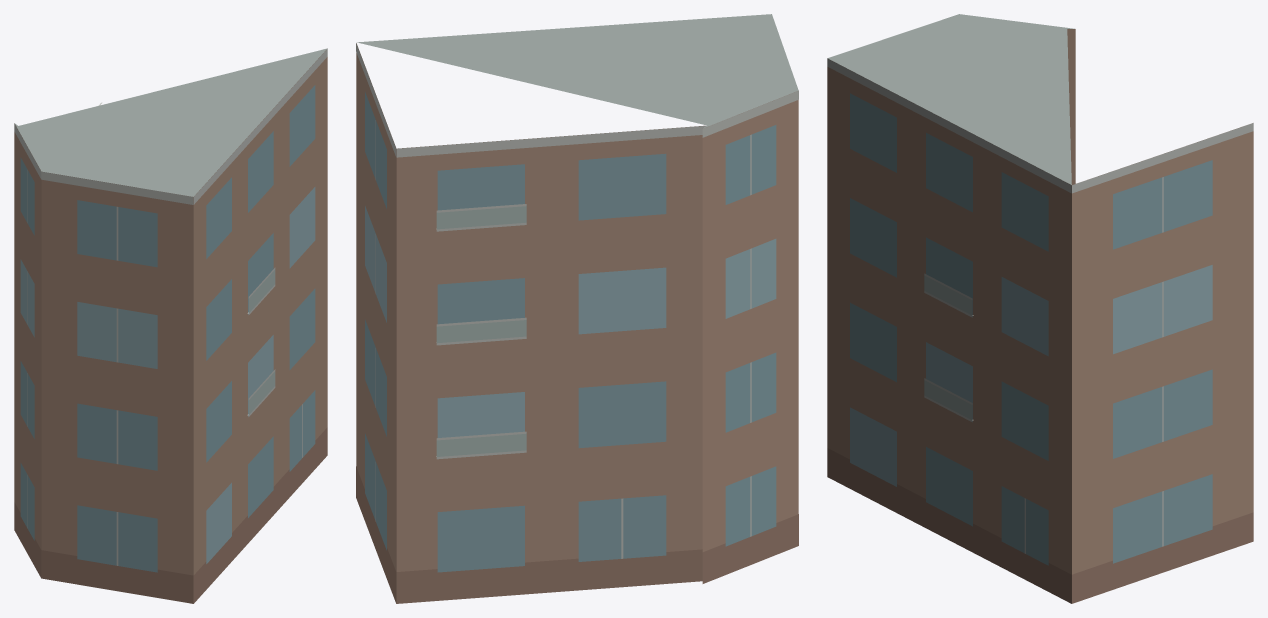
Rendered from survey-upis-32856187.glb.
3 renders of one model, left to right at view 1: azimuth 30°, elevation 25°; view 2: azimuth 150°, elevation 25°; view 3: azimuth 270°, elevation 25°, orthographic. The views are drawn at different scales.
Visible parts, largest first — view 1: survey-upis-32856187.tmp; view 2: survey-upis-32856187.tmp; view 3: survey-upis-32856187.tmp.
Part boxes in pixels (left/top/right/bottom): survey-upis-32856187.tmp: left=14, top=48, right=327, bottom=603; survey-upis-32856187.tmp: left=356, top=14, right=798, bottom=603; survey-upis-32856187.tmp: left=827, top=14, right=1253, bottom=603.
Size of the model in its own units: 10.7 by 12.2 by 11.26.
